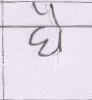au_matra: (46, 4, 68, 51)
